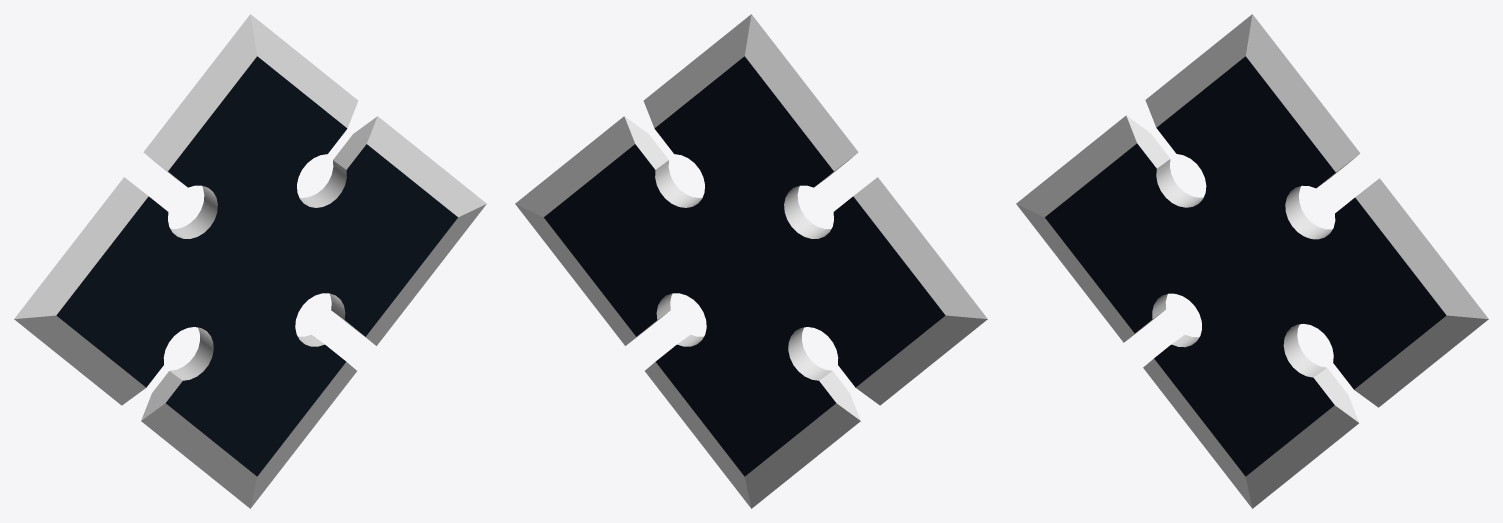
File: scene_q0kSwSqkri.glb
3 views of the same model, side by side, from view 1: azimuth 30°, elevation 25°; view 2: azimuth 150°, elevation 25°; view 3: azimuth 330°, elevation 25° (orthographic).
Parts seen in each view (by area): view 1: Shuriken_13; view 2: Shuriken_13; view 3: Shuriken_13.
Part boxes in pixels (x1,y1,x2,y2): Shuriken_13: (14, 14, 486, 508); Shuriken_13: (515, 14, 987, 508); Shuriken_13: (1016, 14, 1488, 508).
Bounding box in the file's own units: 2 × 2 × 0.0996.
